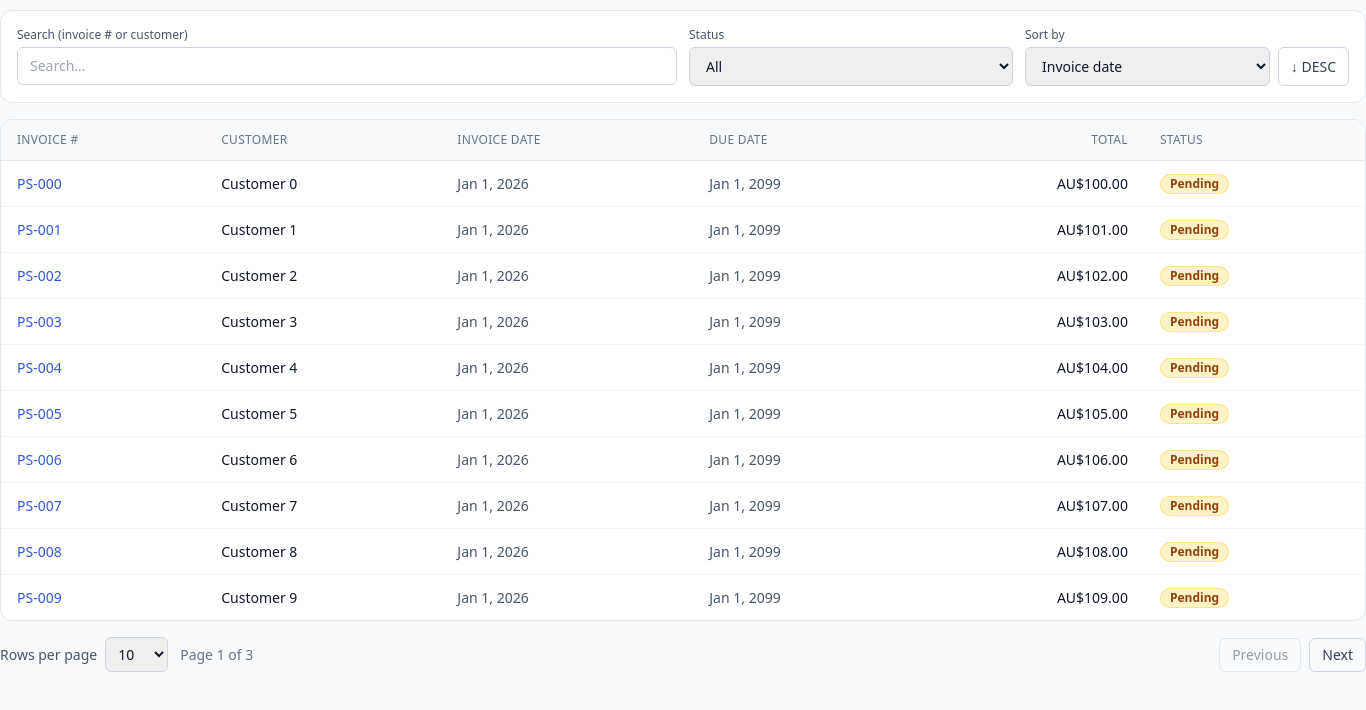
it: InvoiceListPage › changes the page size and resets to the first page (spec §2.1.2 configurable page size)
This screenshot has width=1366, height=710.
Expected: the row with test id "invoice-row" that starts with "PS-000" is shown, [1, 160, 1365, 206]
Expected: the text "Page 1 of 3" is shown, [180, 644, 253, 664]
Note: Move off page 1 so we can prove the reset.
Click the button "Next": {"x": 1338, "y": 654} [1309, 638, 1365, 672]
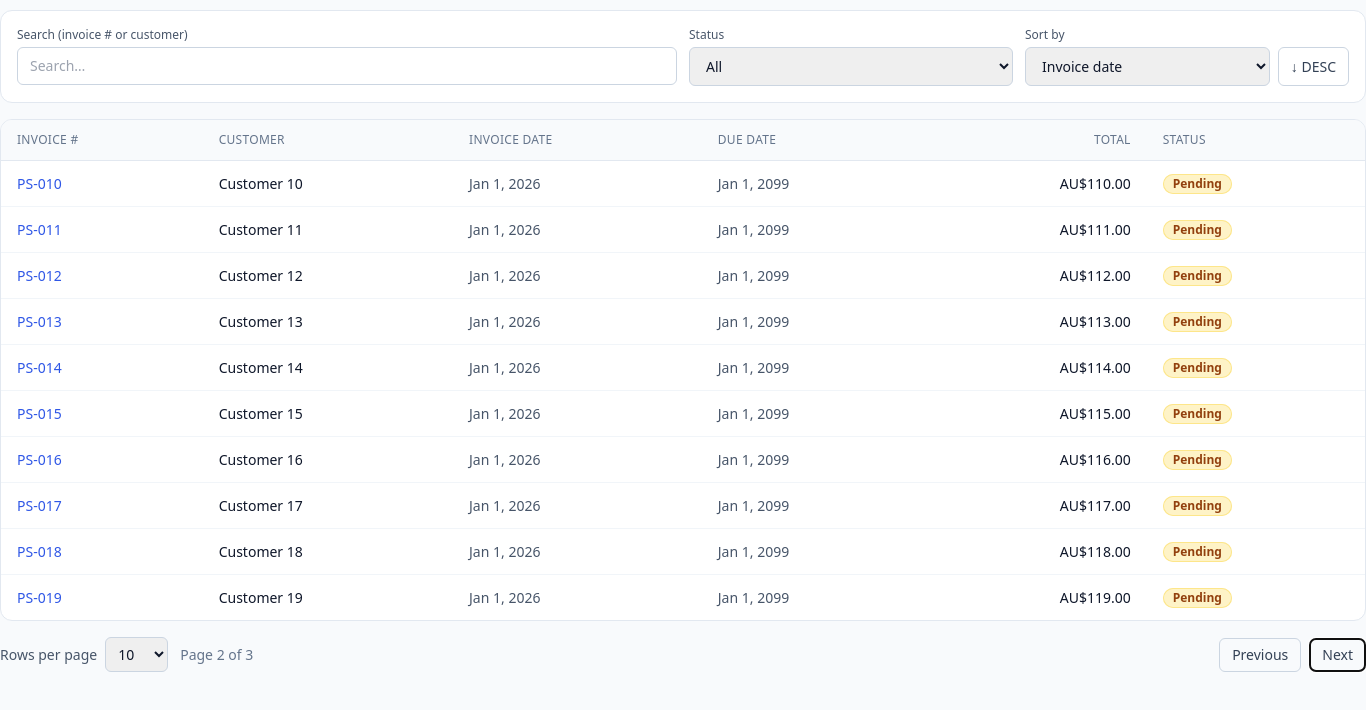
Expected: the text "Page 2 of 3" is shown, [180, 644, 253, 664]
Note: Switch to 25 per page → one page, back on page 1, all rows rendered.
Select "25" in the dropdown labelled "Rows per page": {"x": 137, "y": 654} [105, 637, 168, 672]
(page scrolled)
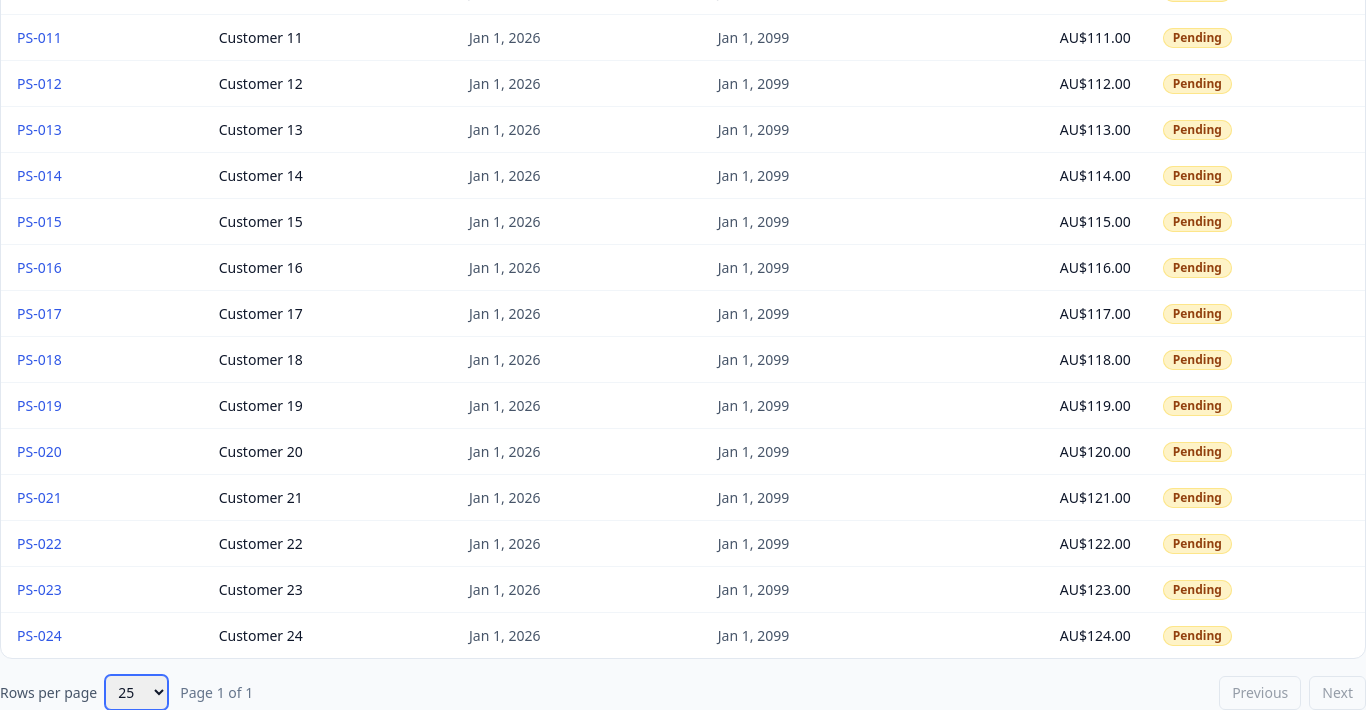
Expected: the text "Page 1 of 1" is shown, [180, 682, 253, 702]
